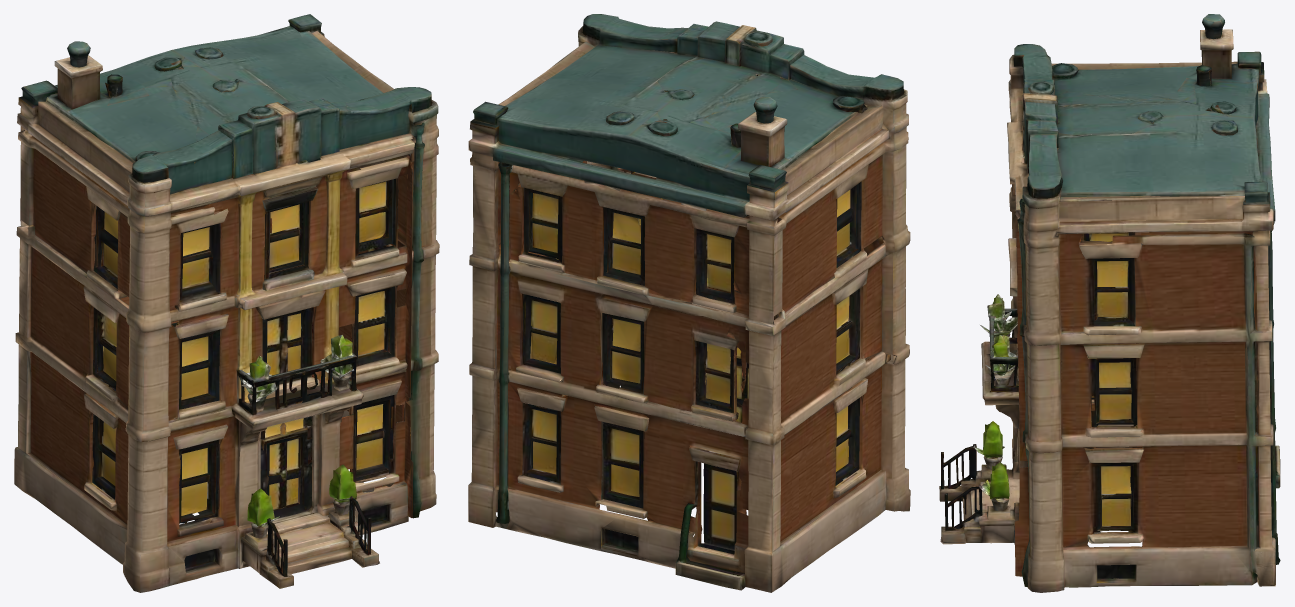
File: candidate.glb
The picture shows the model from 3 angles, left to right: view 1: azimuth 30°, elevation 25°; view 2: azimuth 150°, elevation 25°; view 3: azimuth 270°, elevation 25°; orthographic projection. The views are drawn at different scales.
Visible parts, largest first — view 1: expansion__villa_3__native_mobile; view 2: expansion__villa_3__native_mobile; view 3: expansion__villa_3__native_mobile.
Boxes of the visible parts, x1,y1,x2,y2 form: expansion__villa_3__native_mobile: (14, 14, 439, 592); expansion__villa_3__native_mobile: (468, 14, 910, 592); expansion__villa_3__native_mobile: (939, 14, 1280, 592).
Bounding box in the file's own units: 0.7024 × 1 × 0.6789.
Materials: 1 (1 with a texture image).
